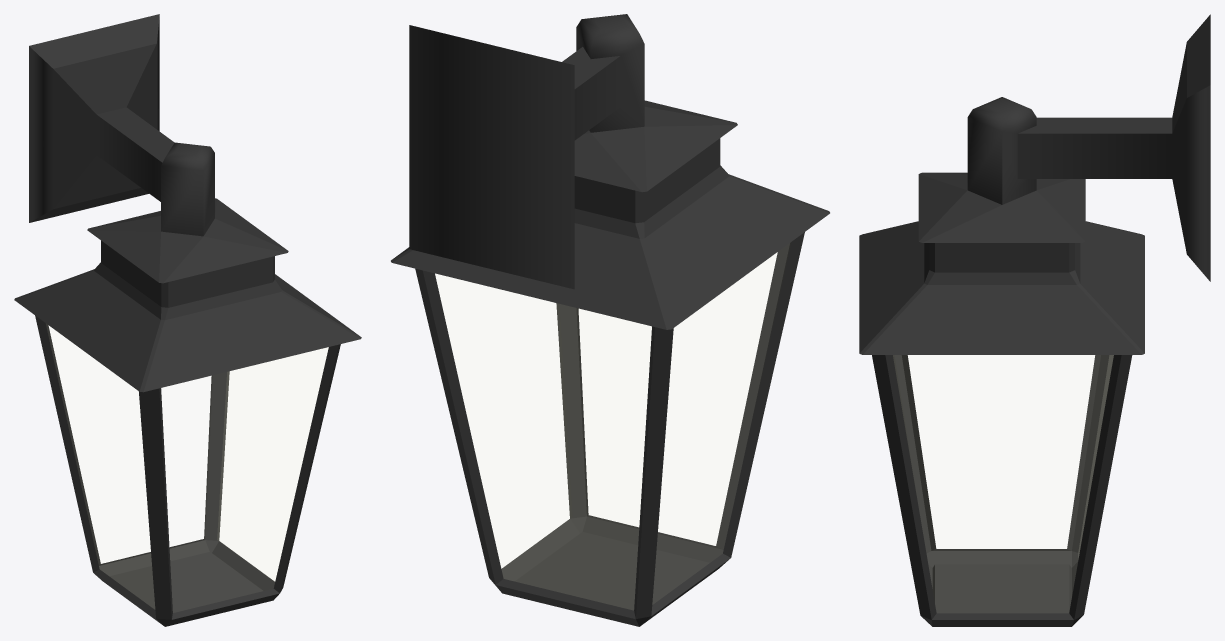
The model's file is Lampada De Parede.fbx.
3 renders of one model, left to right at view 1: azimuth 30°, elevation 25°; view 2: azimuth 150°, elevation 25°; view 3: azimuth 270°, elevation 25°, orthographic. The views are drawn at different scales.
Parts seen in each view (by area): view 1: Lampada De Parede; view 2: Lampada De Parede; view 3: Lampada De Parede.
Part boxes in pixels (x1,y1,x2,y2): Lampada De Parede: [14, 14, 361, 626]; Lampada De Parede: [391, 14, 829, 626]; Lampada De Parede: [859, 14, 1210, 626].
Size of the model in its own units: 19.9 by 42.1 by 24.46.
